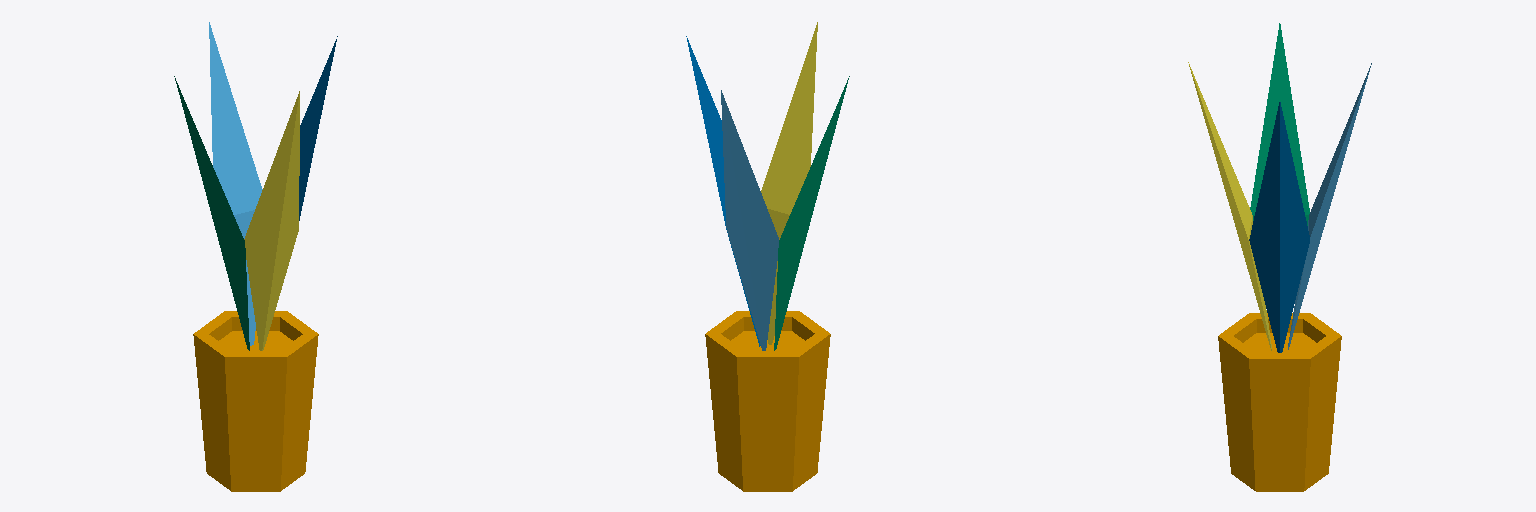
The robot description file, URDF, robot "potted_plant":
<?xml version="1.0"?>
<robot name="potted_plant">
  <link name="pot">
    <inertial>
        <origin rpy="0 0 0" xyz="0 0 0"/>
        <mass value="5.0"/>
        <inertia ixx="4.4e-5" ixy="0" ixz="0" iyy="0" iyz="0" izz="4.4e-5"/>
    </inertial>
    <visual>
      <geometry>
        <mesh filename="pot.obj"/>
      </geometry>
    </visual>
    <collision>
      <geometry>
        <mesh filename="pot.obj"/>
      </geometry>
      <surface>
           <bounce restitution_coefficient = "0.1"/>
      </surface>
    </collision>
  </link>
  <link name="leaf_1">
    <inertial>
        <origin rpy="0 0 0" xyz="0 0 0"/>
        <mass value="0.05"/>
        <inertia ixx="4.4e-5" ixy="0" ixz="0" iyy="0" iyz="0" izz="4.4e-5"/>
    </inertial>
    <visual>
      <geometry>
        <mesh filename="leaf.obj"/>
      </geometry>
    </visual>
    <collision>
      <geometry>
        <mesh filename="leaf.obj"/>
      </geometry>
      <surface>
           <bounce restitution_coefficient = "0.1"/>
      </surface>
    </collision>
  </link>
  <link name="leaf_2">
    <inertial>
        <origin rpy="0 0 0" xyz="0 0 0"/>
        <mass value="0.05"/>
        <inertia ixx="4.4e-5" ixy="0" ixz="0" iyy="0" iyz="0" izz="4.4e-5"/>
    </inertial>
    <visual>
      <geometry>
        <mesh filename="leaf.obj"/>
      </geometry>
    </visual>
    <collision>
      <geometry>
        <mesh filename="leaf.obj"/>
      </geometry>
      <surface>
           <bounce restitution_coefficient = "0.1"/>
      </surface>
    </collision>
  </link>
  <link name="leaf_3">
    <inertial>
        <origin rpy="0 0 0" xyz="0 0 0"/>
        <mass value="0.05"/>
        <inertia ixx="4.4e-5" ixy="0" ixz="0" iyy="0" iyz="0" izz="4.4e-5"/>
    </inertial>
    <visual>
      <geometry>
        <mesh filename="leaf.obj"/>
      </geometry>
    </visual>
    <collision>
      <geometry>
        <mesh filename="leaf.obj"/>
      </geometry>
      <surface>
           <bounce restitution_coefficient = "0.1"/>
      </surface>
    </collision>
  </link>
  <link name="leaf_4">
    <inertial>
        <origin rpy="0 0 0" xyz="0 0 0"/>
        <mass value="0.05"/>
        <inertia ixx="4.4e-5" ixy="0" ixz="0" iyy="0" iyz="0" izz="4.4e-5"/>
    </inertial>
    <visual>
      <geometry>
        <mesh filename="leaf.obj"/>
      </geometry>
    </visual>
    <collision>
      <geometry>
        <mesh filename="leaf.obj"/>
      </geometry>
      <surface>
           <bounce restitution_coefficient = "0.1"/>
      </surface>
    </collision>
  </link>
  <joint name="pot_to_leaf_1" type="fixed">
    <parent link="pot"/>
    <child link="leaf_1"/>
    <origin rpy="0 0.297 1.5705" xyz="0 0.063 0.274"/>
  </joint>
  <joint name="pot_to_leaf_2" type="fixed">
    <parent link="pot"/>
    <child link="leaf_2"/>
    <origin rpy="0 0.297 3.141" xyz="-0.064 0 0.274"/>
  </joint>
  <joint name="pot_to_leaf_3" type="fixed">
    <parent link="pot"/>
    <child link="leaf_3"/>
    <origin rpy="0 0.297 4.648" xyz="0 -0.063 0.274"/>
  </joint>
  <joint name="pot_to_leaf_4" type="fixed">
    <parent link="pot"/>
    <child link="leaf_4"/>
    <origin rpy="0 0.297 0" xyz="0.064 0 0.274"/>
  </joint>
</robot>

--- Facts derived from the render (not from the file) ---
Views: 3 orthographic renders of the robot side by side, from view 1: azimuth 30°, elevation 25°; view 2: azimuth 150°, elevation 25°; view 3: azimuth 270°, elevation 25°.
Model potted_plant with 5 links and 4 joints (4 fixed), rooted at pot, posed all joints at 0.
Links seen in each view (by area): view 1: pot, leaf_3, leaf_1, leaf_2, leaf_4; view 2: pot, leaf_1, leaf_3, leaf_2, leaf_4; view 3: pot, leaf_4, leaf_2, leaf_3, leaf_1.
Boxes of the visible links, left/top/right/bottom form: pot: left=193, top=311, right=318, bottom=491; leaf_3: left=244, top=91, right=299, bottom=350; leaf_1: left=209, top=22, right=262, bottom=345; leaf_2: left=174, top=76, right=249, bottom=350; leaf_4: left=299, top=36, right=337, bottom=220; pot: left=705, top=311, right=830, bottom=491; leaf_1: left=721, top=90, right=778, bottom=350; leaf_3: left=761, top=22, right=817, bottom=344; leaf_2: left=774, top=76, right=849, bottom=350; leaf_4: left=686, top=36, right=760, bottom=346; pot: left=1218, top=313, right=1341, bottom=491; leaf_4: left=1249, top=102, right=1309, bottom=352; leaf_2: left=1250, top=23, right=1309, bottom=225; leaf_3: left=1188, top=62, right=1271, bottom=350; leaf_1: left=1288, top=63, right=1371, bottom=349.
Size in the robot's own frame: 0.2993 by 0.2971 by 0.7298 metres.
5 mesh visuals loaded from 2 distinct referenced files (2 OBJ).